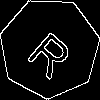R: (24, 23, 81, 81)
